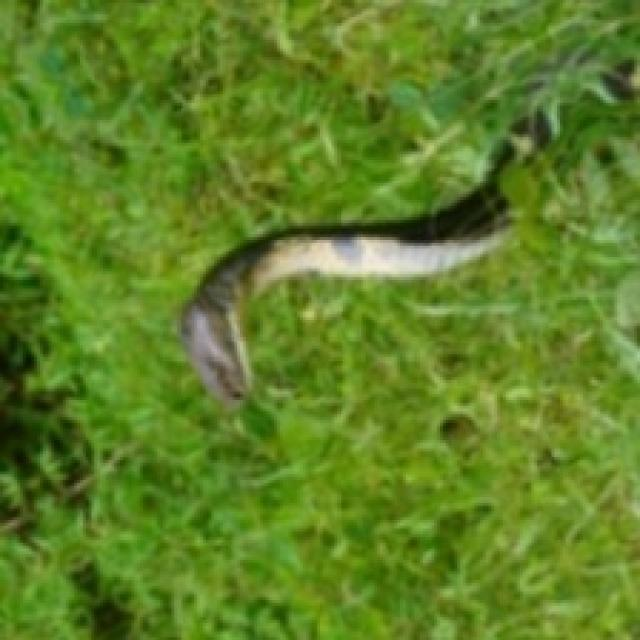king cobra: (180, 114, 554, 406)
